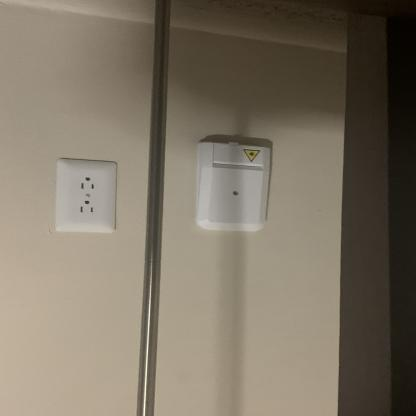OUTLET: (55, 164, 115, 233)
